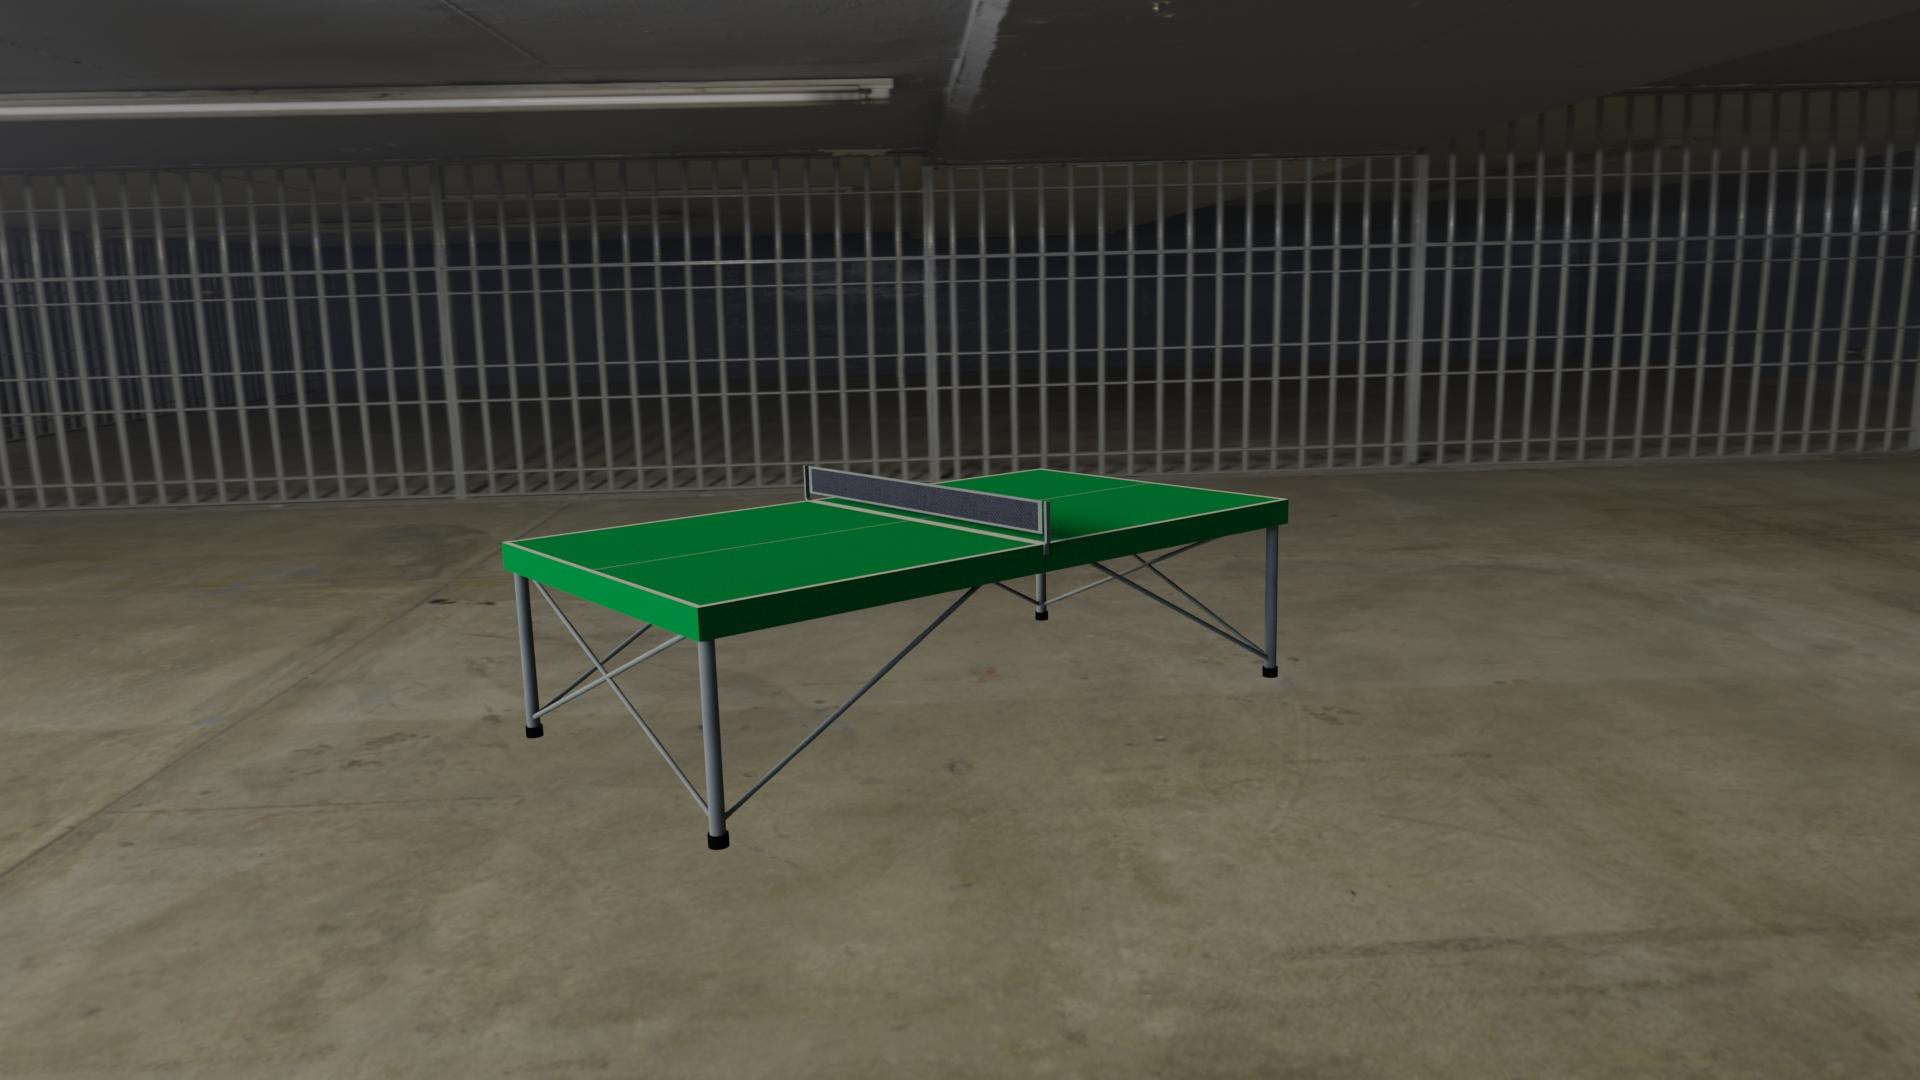table: (509, 469, 1282, 605)
